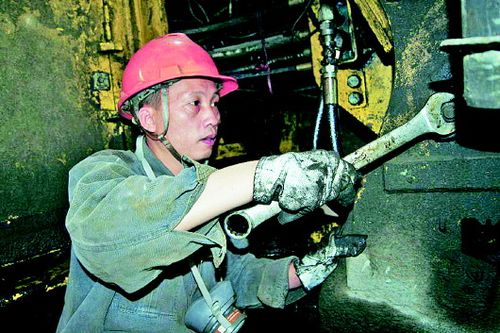device: (55, 33, 367, 333)
